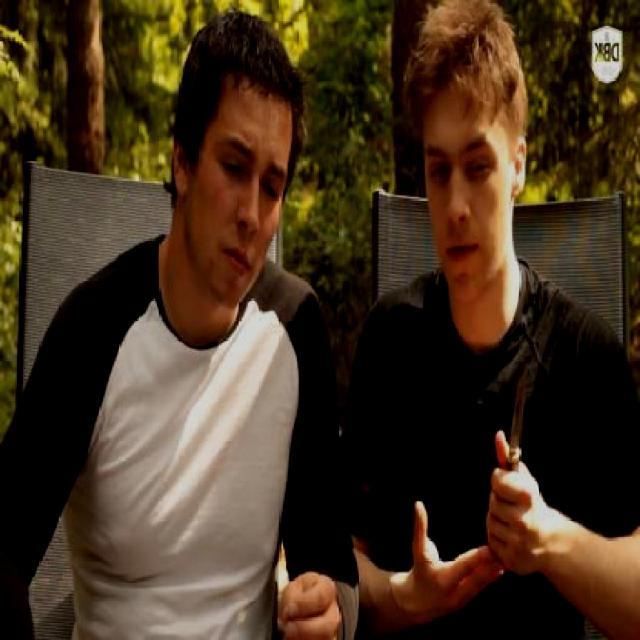knife: (480, 346, 540, 531)
